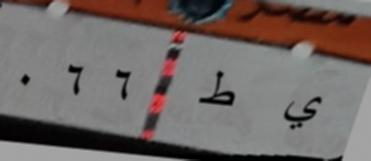0: (11, 60, 38, 101)
6: (60, 56, 88, 105), (110, 64, 136, 106)
Taa: (196, 62, 240, 121)
yaa: (276, 88, 326, 135)
